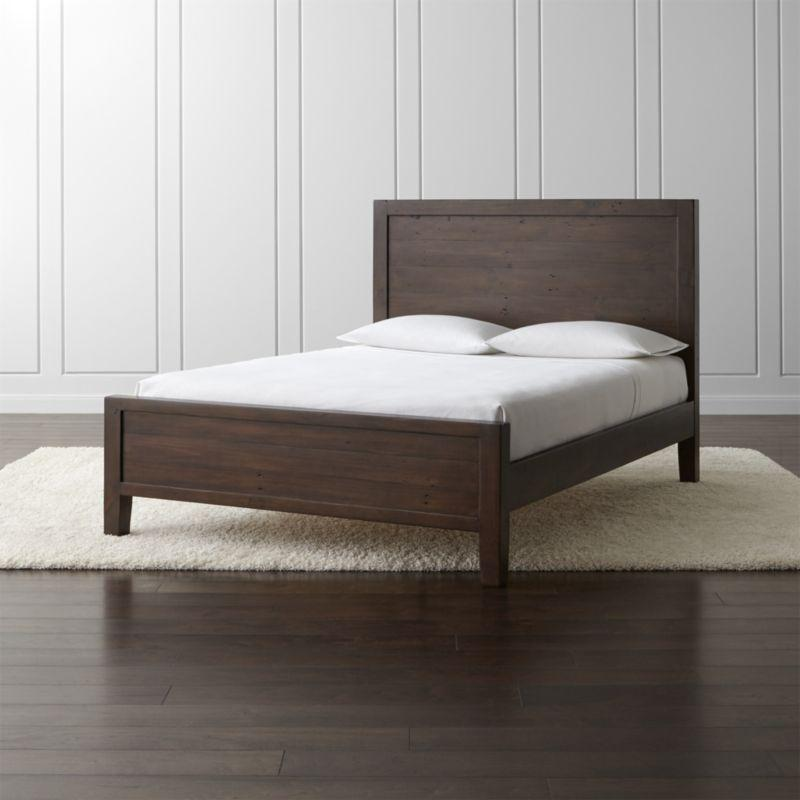bed: (58, 183, 736, 583)
